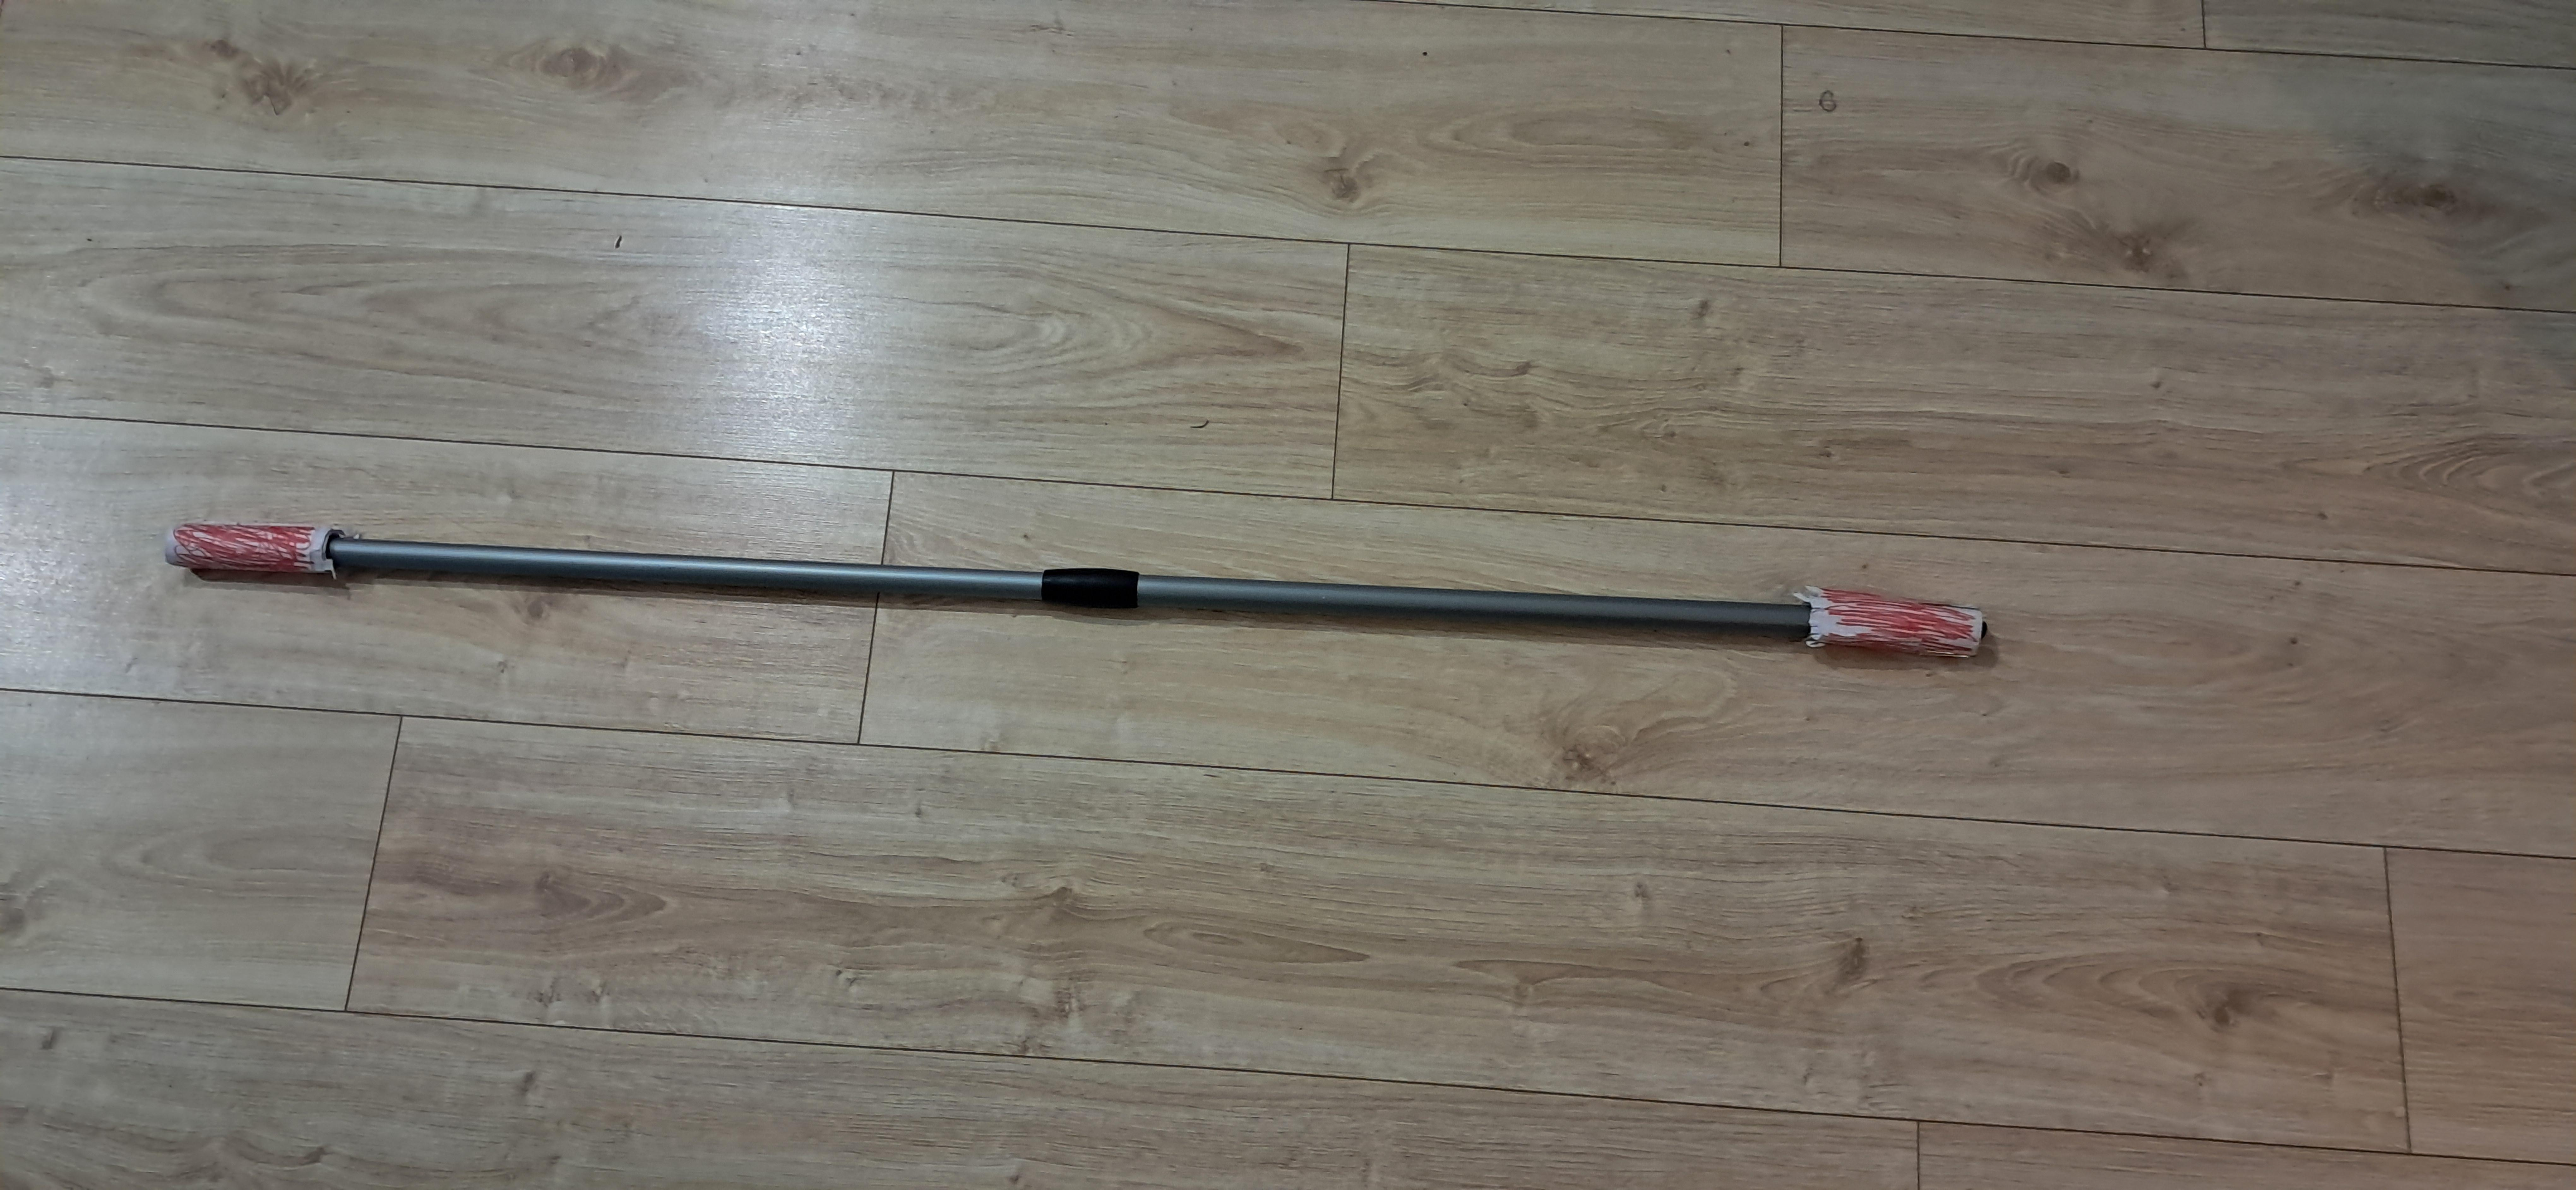broom-handle: (163, 523, 1986, 657)
